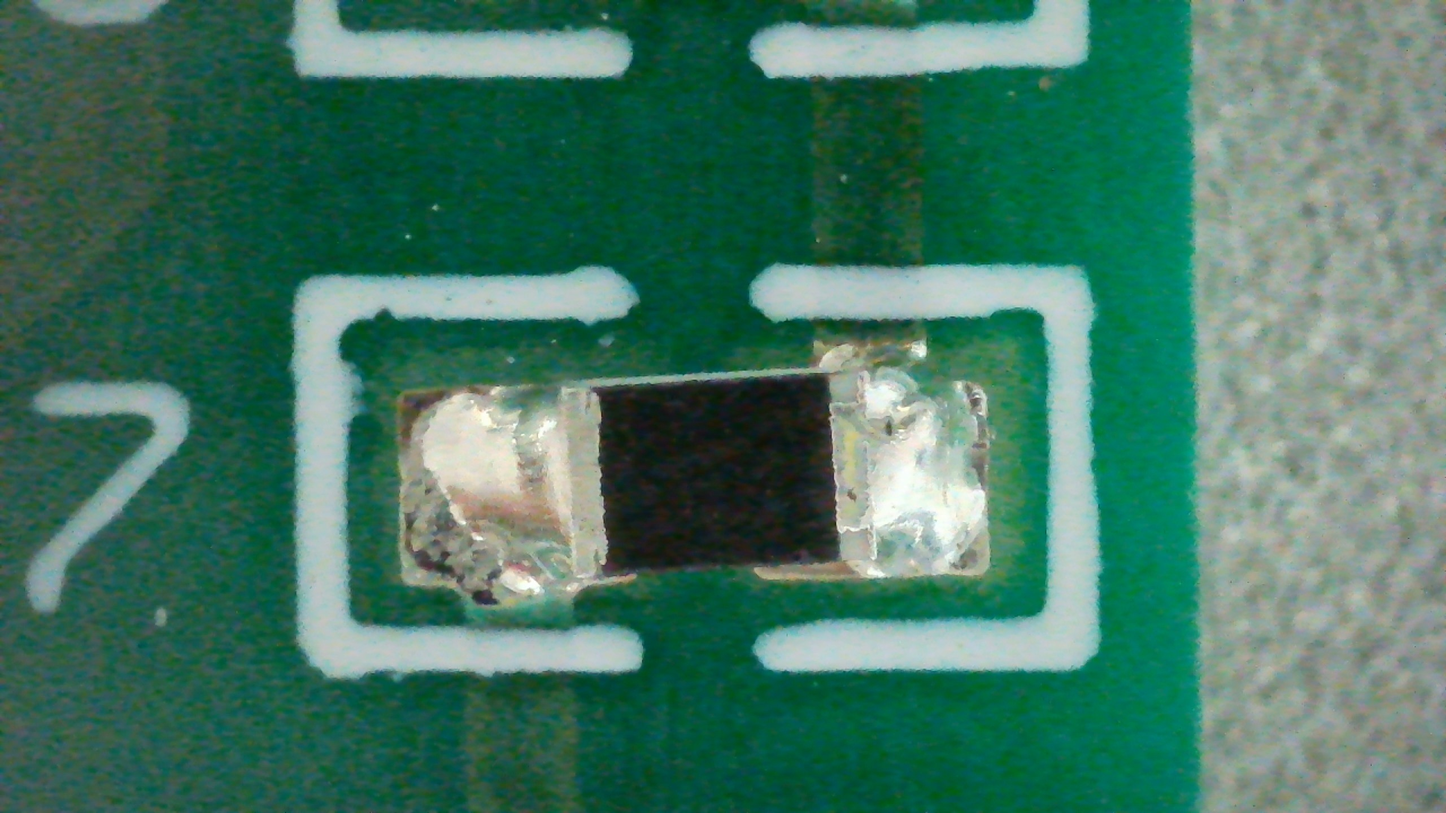NG: (403, 337, 995, 605)
